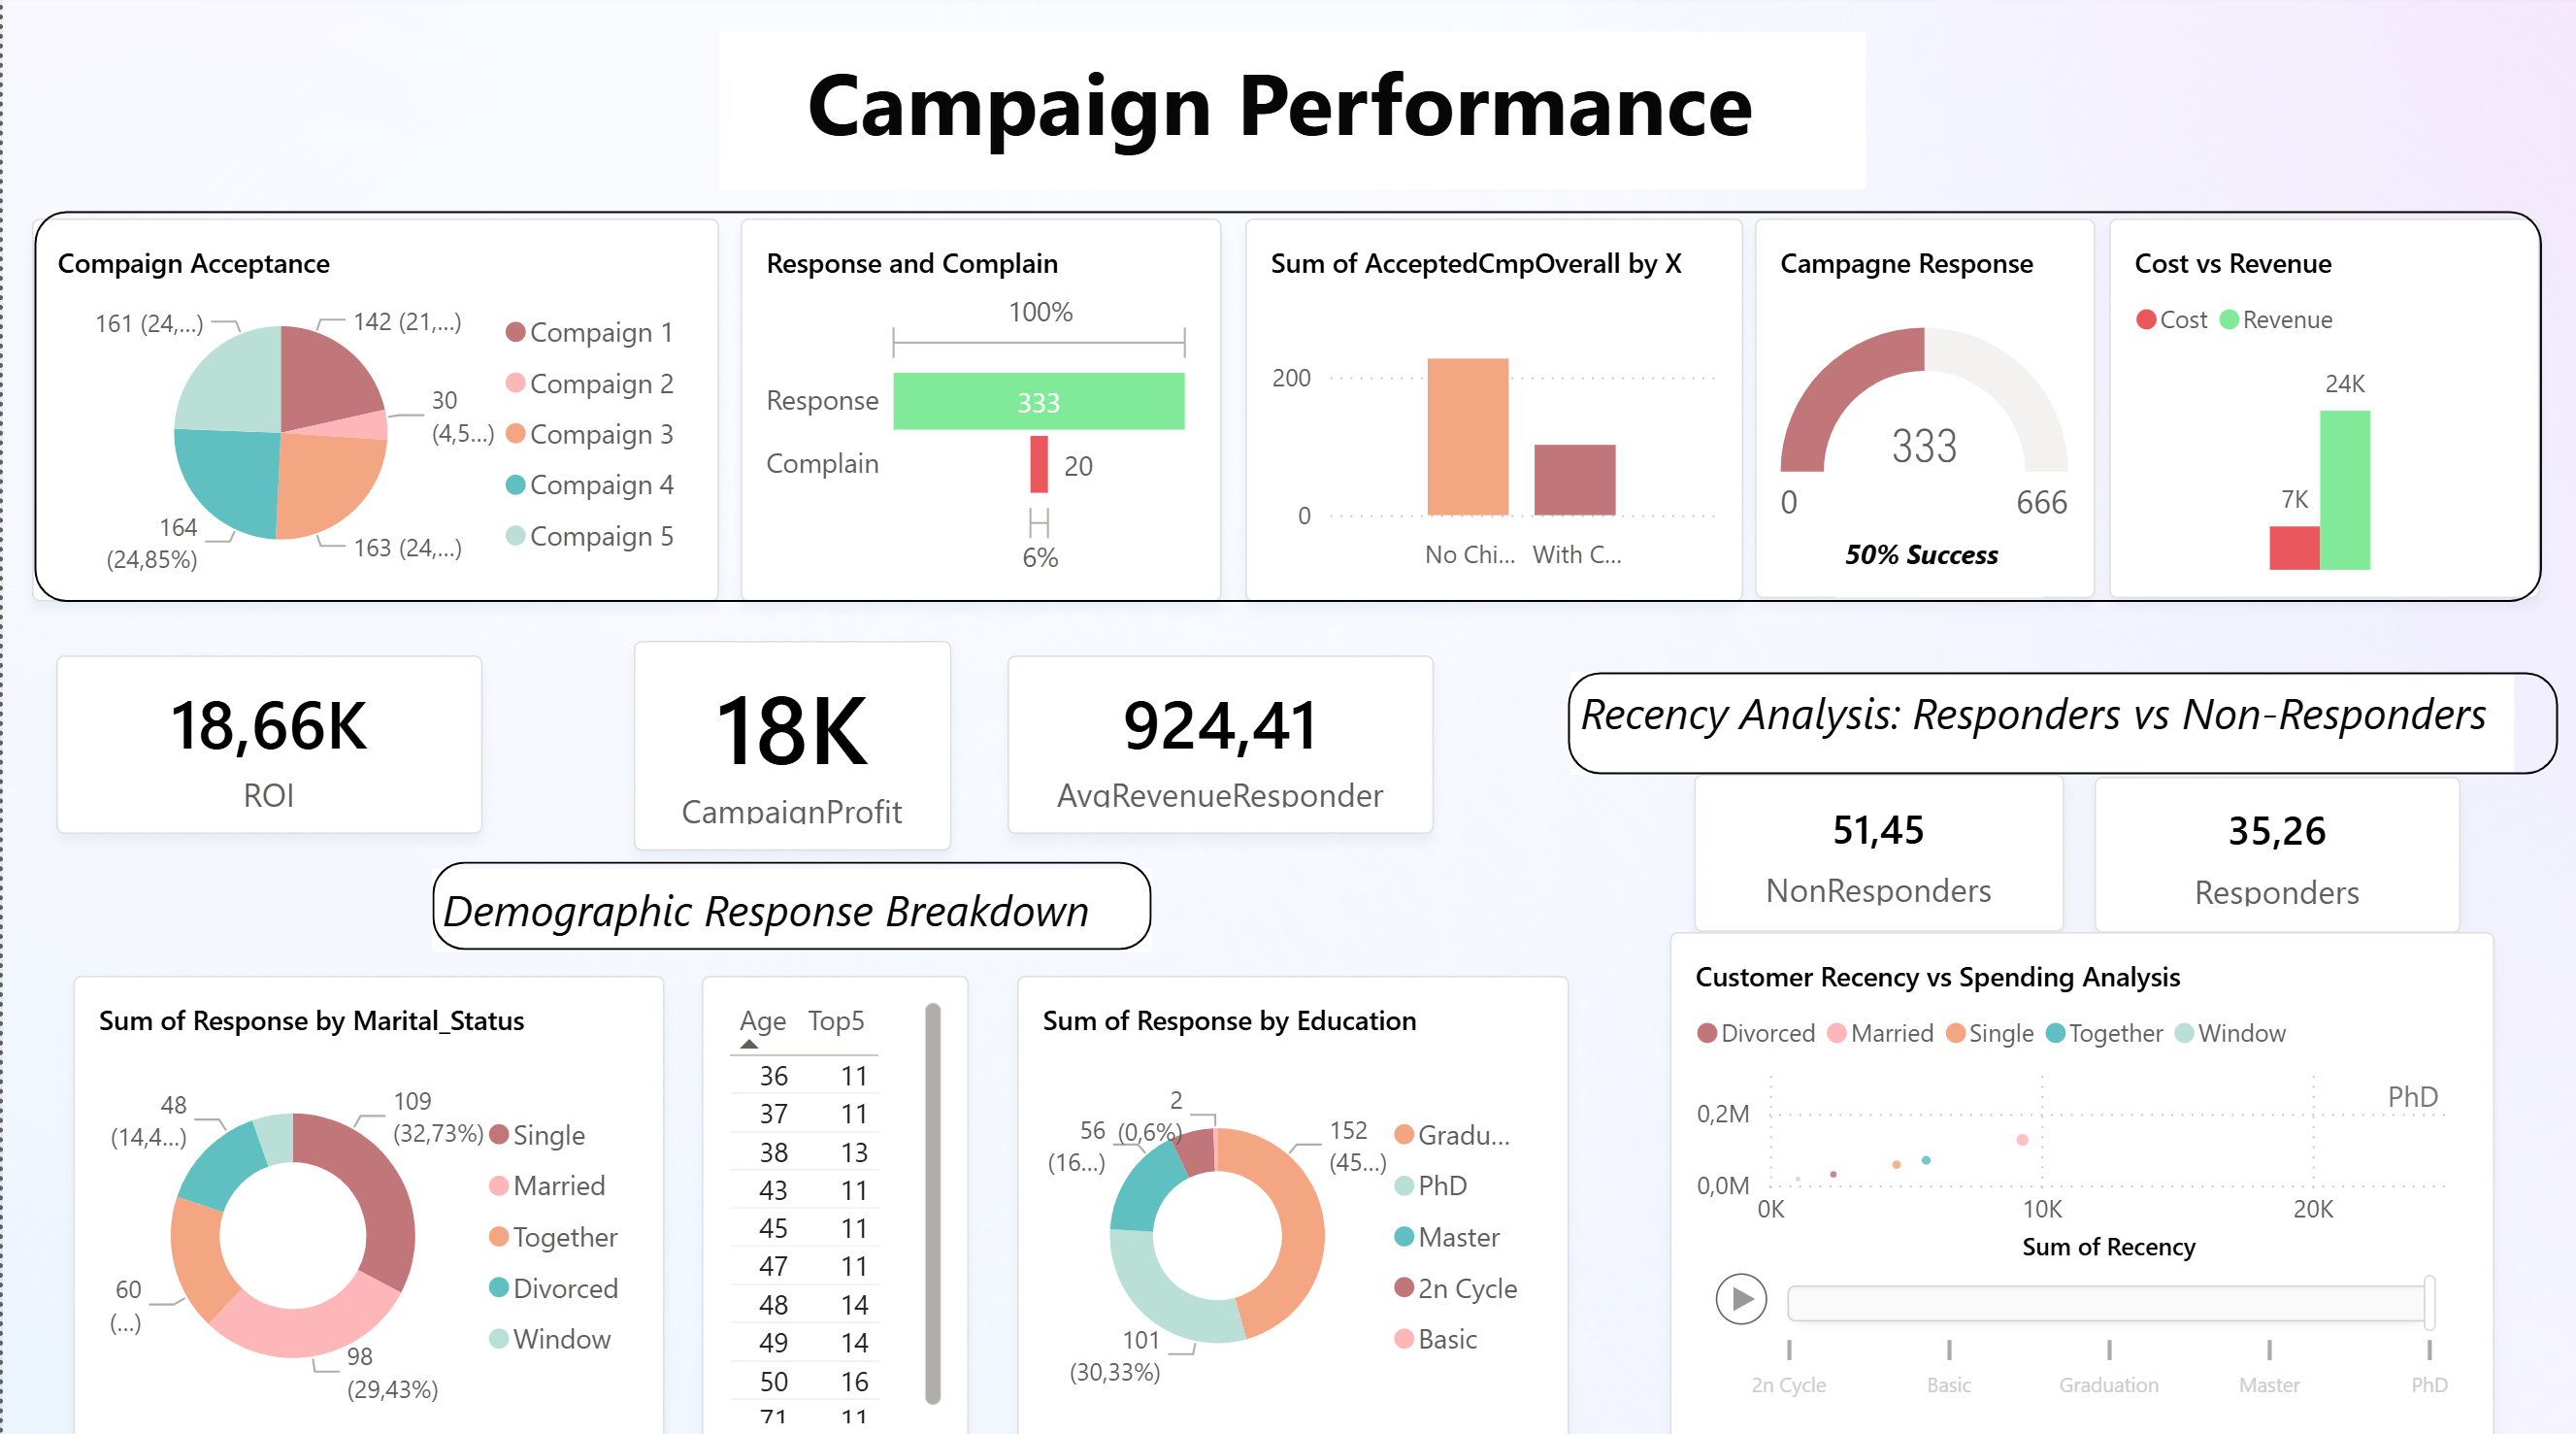

This screenshot's page, from the dashboard's own definition file:
{"tool":"powerbi","page":{"name":"Page 2","canvas":[1280,720],"ordinal":1},"visuals":[{"type":"textbox","box":[213.9,431.4,357.7,41.1],"z":0},{"type":"donutChart","fields":{"Category":["ifood_df.Marital_Status"],"Y":["ifood_df.Response"]},"box":[34.8,484.6,293.8,235.8],"z":1000},{"type":"donutChart","fields":{"Category":["ifood_df.Education"],"Y":["ifood_df.Response"]},"box":[503.9,484.6,274.5,235.8],"z":2000},{"type":"tableEx","fields":{"Values":["ifood_df_1.Age","ifood_df_1.Top5"]},"box":[347.5,485,132.7,235.3],"z":3000},{"type":"pieChart","title":"Compaign Acceptance","fields":{"Y":["ifood_df.AcceptedCmp1","ifood_df.AcceptedCmp2","ifood_df.AcceptedCmp3","ifood_df.AcceptedCmp4","ifood_df.AcceptedCmp5"]},"box":[14.9,108.3,341.8,190.5],"z":4000},{"type":"clusteredColumnChart","fields":{"Category":["ifood_df_1 (2).X"],"Y":["ifood_df_1 (2).AcceptedCmpOverall"]},"box":[617.3,108.3,247.5,190.5],"z":5000},{"type":"funnel","fields":{"Y":["ifood_df.Response","ifood_df.Complain"]},"box":[367,108.3,239.1,190.5],"z":6000},{"type":"clusteredColumnChart","title":"Cost vs Revenue","fields":{"Y":["ifood_df.Z_CostContact","ifood_df.Z_Revenue"]},"box":[1046.8,108.3,213.9,188.6],"z":7000},{"type":"card","fields":{"Values":["ifood_df.ROI"]},"box":[26.1,325.9,212,88.7],"z":8000},{"type":"card","fields":{"Values":["Measure.CampaignProfit"]},"box":[313.8,318.4,157.8,104.6],"z":9000},{"type":"card","fields":{"Values":["ifood_df.AvgRevenueResponder"]},"box":[499.6,325.9,212,88.7],"z":10000},{"type":"textbox","box":[356.1,16.2,570.3,78.4],"z":11000},{"type":"shape","box":[213.9,428.6,357.7,43.9],"z":12000},{"type":"card","fields":{"Values":["ifood_df.AvgRecency_Responders"]},"box":[1040.3,385.7,182.1,77.5],"z":13000},{"type":"card","fields":{"Values":["ifood_df.AvgRecency_NonResponders"]},"box":[840.5,384.7,184,78.4],"z":14000},{"type":"scatterChart","title":"Customer Recency vs Spending Analysis","fields":{"X":["ifood_df.Recency"],"Y":["ifood_df.MntTotal"],"Series":["ifood_df.Marital_Status"],"Size":["ifood_df.AcceptedCmpOverall"],"Play":["ifood_df.Education"]},"box":[828.8,463.3,410.2,257],"z":15000},{"type":"textbox","box":[779.4,334.2,469.3,50.7],"z":16000},{"type":"shape","box":[778.2,334.2,492.2,50.7],"z":17000},{"type":"gauge","title":"Campagne Response","fields":{"Y":["ifood_df.Response"]},"box":[871.3,108.3,169,188.6],"z":18000},{"type":"shape","box":[15.9,104.6,1246.7,194.2],"z":19000},{"type":"textbox","box":[911.4,260.5,102.7,36.4],"z":20000}]}

Visuals, with their boxes in screenshot pixels (x1, y1, x2, y2), scaled from the page's 1280x720 canvas onto the 2576x1434 screenshot:
textbox: 431/859/1150/941
donutChart - ifood_df.Marital_Status x ifood_df.Response: 70/965/661/1433
donutChart - ifood_df.Education x ifood_df.Response: 1014/965/1567/1433
tableEx - ifood_df_1.Age x ifood_df_1.Top5: 700/966/967/1433
"Compaign Acceptance" pieChart: 30/216/718/595
clusteredColumnChart - ifood_df_1 (2).X x ifood_df_1 (2).AcceptedCmpOverall: 1242/216/1740/595
funnel - ifood_df.Response x ifood_df.Complain: 739/216/1220/595
"Cost vs Revenue" clusteredColumnChart: 2106/216/2537/591
card - ifood_df.ROI: 52/650/479/826
card - Measure.CampaignProfit: 632/634/949/843
card - ifood_df.AvgRevenueResponder: 1006/650/1432/826
textbox: 716/32/1865/188
shape: 431/853/1150/941
card - ifood_df.AvgRecency_Responders: 2094/768/2460/922
card - ifood_df.AvgRecency_NonResponders: 1692/766/2062/922
"Customer Recency vs Spending Analysis" scatterChart: 1668/922/2493/1433
textbox: 1569/666/2513/767
shape: 1567/666/2557/767
"Campagne Response" gauge: 1754/216/2094/591
shape: 32/209/2541/595
textbox: 1834/518/2041/591
